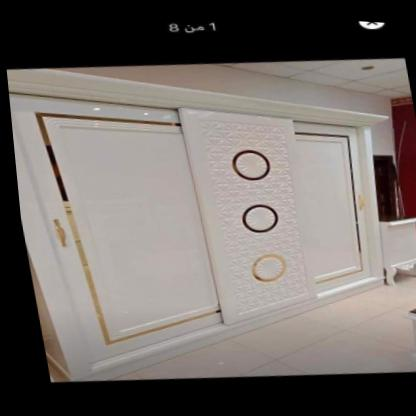Ceramic floor: (118, 263, 416, 379)
Closet: (5, 69, 385, 380)
